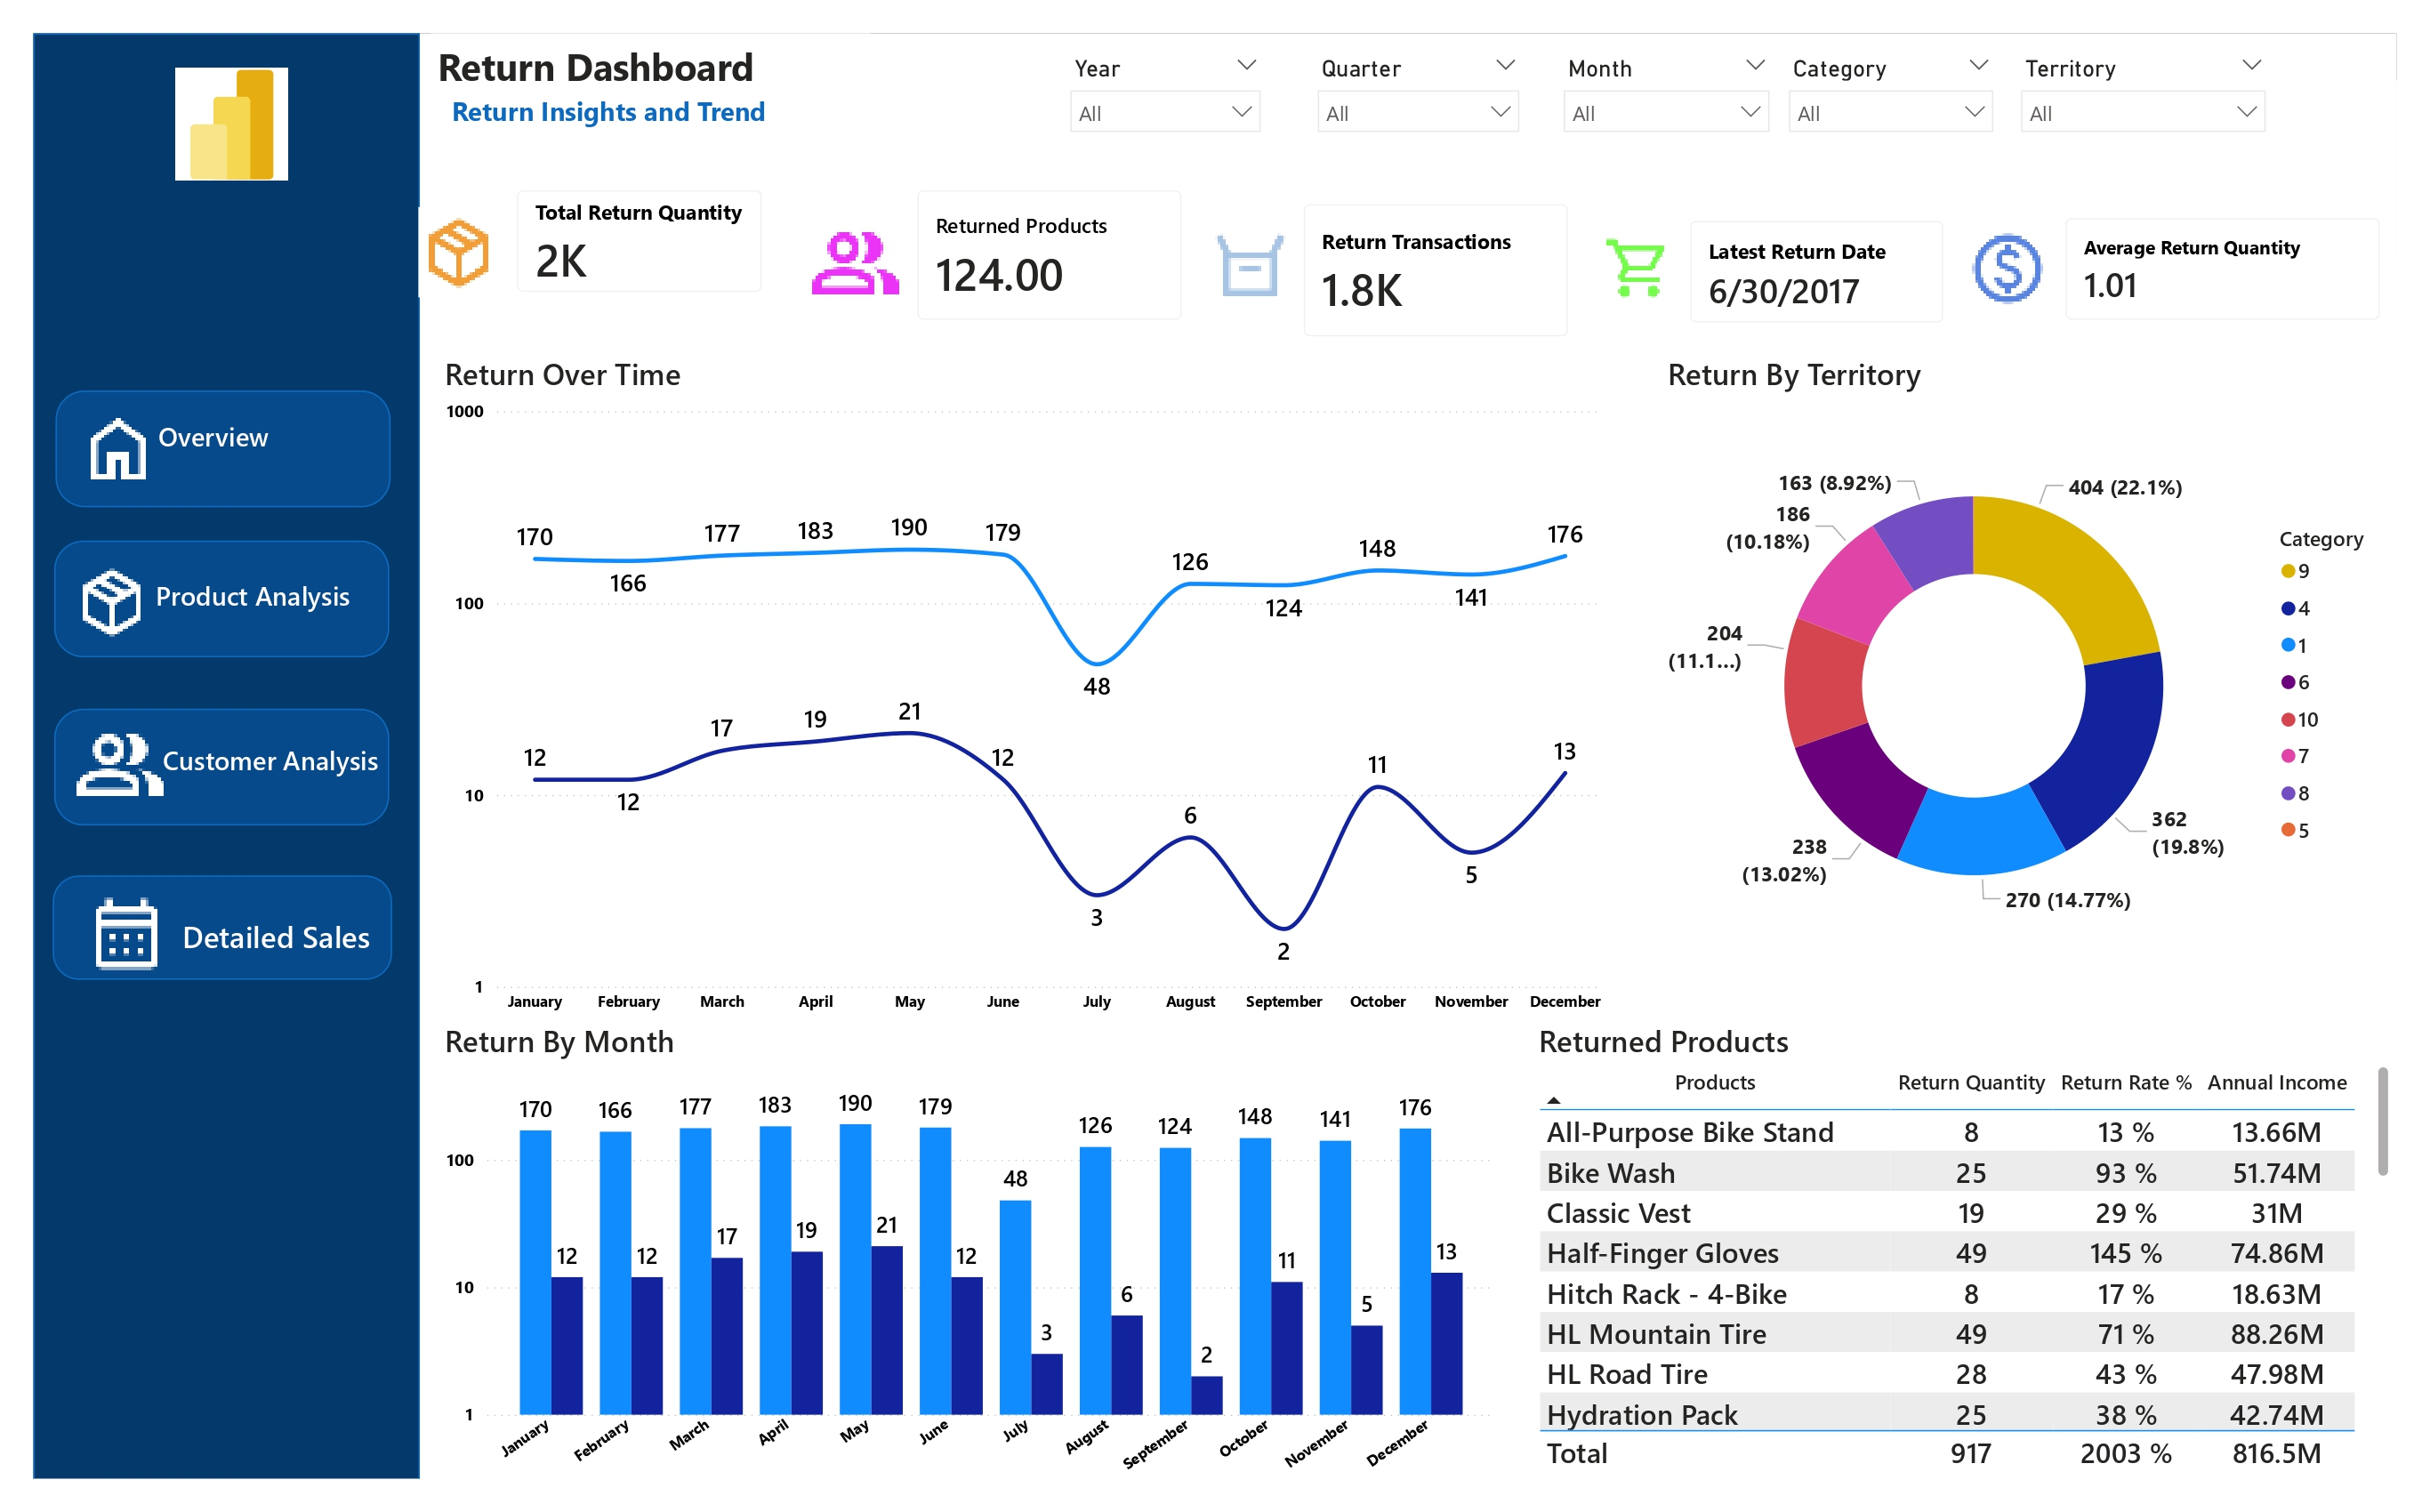

What the dashboard file says about the page in this screenshot:
{"tool":"powerbi","page":{"name":"Return Dashboard","canvas":[1700,1040],"ordinal":4},"visuals":[{"type":"shape","box":[0,0,277.5,1400],"z":0},{"type":"group","id":"g1","title":"Group 2","box":[1129.5,131.8,50,74.3],"z":1000},{"type":"shape","box":[16.1,257.3,241.4,84.3],"z":1000,"group":"g3"},{"type":"shape","box":[15.2,364.7,241.4,84.3],"z":1000,"group":"g9"},{"type":"shape","box":[15.3,485.7,241.4,84.3],"z":1000,"group":"g11"},{"type":"shape","box":[14,606,244,74.5],"z":1000,"group":"g12"},{"type":"group","id":"g2","title":"Group 3","box":[552,132,78,66],"z":2000},{"type":"image","box":[78.2,25.4,128.9,80.3],"z":3000},{"type":"group","id":"g3","title":"Group 8","box":[16.1,257.3,241.4,84.3],"z":4000},{"type":"image","box":[31.3,267.4,60,64.3],"z":4000,"group":"g4"},{"type":"group","id":"g4","title":"Group 7","box":[31.3,267.4,208.1,64.3],"z":4000,"group":"g3"},{"type":"group","id":"g5","title":"Group 7","box":[21.5,381.1,220.6,57.1],"z":4000,"group":"g9"},{"type":"image","box":[21.5,381.1,71.4,57.1],"z":4000,"group":"g5"},{"type":"group","id":"g6","title":"Group 7","box":[25.9,492.5,230.2,67.1],"z":4000,"group":"g11"},{"type":"image","box":[25.9,492.5,72.9,67.1],"z":4000,"group":"g6"},{"type":"image","box":[30.7,618,72,60],"z":4000,"group":"g7"},{"type":"group","id":"g7","title":"Group 7","box":[30.7,618,224.7,79.4],"z":4000,"group":"g12"},{"type":"group","id":"g8","title":"Group 4","box":[277.1,125.4,57.7,65.4],"z":5000},{"type":"textbox","box":[85.1,272.5,154.3,48.6],"z":5000,"group":"g4"},{"type":"textbox","box":[83.5,386.7,158.6,38.6],"z":5000,"group":"g5"},{"type":"textbox","box":[87.5,504.7,168.6,45.7],"z":5000,"group":"g6"},{"type":"textbox","box":[101.4,630,154,67.4],"z":5000,"group":"g7"},{"type":"cardVisual","fields":{"Data":["returndelta.Total Return Quantity"]},"box":[336,96,200,102],"z":6000},{"type":"image","box":[1129.5,131.8,50,74.3],"z":6000,"group":"g1"},{"type":"image","box":[552,132,78.6,67.1],"z":7000,"group":"g2"},{"type":"group","id":"g9","title":"Group 8","box":[15.2,364.7,241.4,84.3],"z":7000},{"type":"image","box":[277.1,125.4,57.7,65.4],"z":8000,"group":"g8"},{"type":"group","id":"g10","title":"Group 5","box":[837.1,140,77.1,58.6],"z":8000},{"type":"image","box":[837.1,140,77.1,58.6],"z":9000,"group":"g10"},{"type":"group","id":"g11","title":"Group 8","box":[15.3,485.7,241.4,84.3],"z":9000},{"type":"group","id":"g12","title":"Group 8","box":[14,606,244,91.4],"z":11000},{"type":"textbox","box":[286,0,316,56],"z":12000},{"type":"textbox","box":[296,38,306,40],"z":13000},{"type":"slicer","fields":{"Values":["calendar.Year"]},"box":[735.7,10,157.1,68.6],"z":14000},{"type":"slicer","fields":{"Values":["calendar.Quarter"]},"box":[914.3,10,164.3,68.6],"z":15000},{"type":"slicer","fields":{"Values":["calendar.Month Name"]},"box":[1091.4,10,167.1,68.6],"z":16000},{"type":"slicer","fields":{"Values":["Merge.CategoryName"]},"box":[1252.9,10,167.1,68.6],"z":17000},{"type":"slicer","fields":{"Values":["sales.TerritoryKey"]},"box":[1420,10,195.7,68.6],"z":18000},{"type":"donutChart","title":"Return By Territory","fields":{"Category":["returndelta2026.TerritoryKey"],"Y":["Sum(returndelta2026.ReturnQuantity)"]},"box":[1176,230,524,446],"z":19000},{"type":"lineChart","title":"Return Over Time","fields":{"Category":["returndelta2026.Month Name"],"Y":["Sum(returndelta2026.ReturnQuantity)","returndelta2026.PY Return Quantity"]},"box":[296,230,834,480],"z":20000},{"type":"cardVisual","fields":{"Data":["returndelta.Latest Return Date"]},"box":[1180,118,206,102],"z":21000},{"type":"cardVisual","fields":{"Data":["returndelta.Average Return Quantity"]},"box":[1450,115.7,250,102.9],"z":22000},{"type":"image","box":[1385.7,140,68.6,58.6],"z":23000},{"type":"cardVisual","fields":{"Data":["returndelta.Distinct Returned Products"]},"box":[624,96,214,122],"z":24000},{"type":"cardVisual","fields":{"Data":["returndelta.Return Transactions"]},"box":[902,106,214,124],"z":25000},{"type":"clusteredColumnChart","title":"Return By Month","fields":{"Category":["returndelta2026.Month Name"],"Y":["Sum(returndelta2026.ReturnQuantity)","returndelta2026.PY Return Quantity"]},"box":[296,710,756,330],"z":26000},{"type":"tableEx","title":"Returned Products","fields":{"Values":["product.ModelName","Sum(returndelta2026.ReturnQuantity)","returndelta.Return Rate %","returndelta2026.Annual Income by Model"]},"box":[1078,710,622,330],"z":27000},{"type":"actionButton","box":[40,280,166,40],"z":27001},{"type":"actionButton","box":[34,382,206,58],"z":27002},{"type":"actionButton","box":[36,504,218,56],"z":27003},{"type":"actionButton","box":[22,612,234,64],"z":27004}]}

Visuals, with their boxes on the page's 1700x1040 design canvas (x1, y1, x2, y2). These are canvas units, not pixel positions in the 2430x1512 screenshot, which may show the page scaled, cropped or inside an application window:
shape: left=0, top=0, right=278, bottom=1400
"Group 2" group: left=1130, top=132, right=1180, bottom=206
shape: left=16, top=257, right=258, bottom=342
shape: left=15, top=365, right=257, bottom=449
shape: left=15, top=486, right=257, bottom=570
shape: left=14, top=606, right=258, bottom=680
"Group 3" group: left=552, top=132, right=630, bottom=198
image: left=78, top=25, right=207, bottom=106
"Group 8" group: left=16, top=257, right=258, bottom=342
image: left=31, top=267, right=91, bottom=332
"Group 7" group: left=31, top=267, right=239, bottom=332
"Group 7" group: left=22, top=381, right=242, bottom=438
image: left=22, top=381, right=93, bottom=438
"Group 7" group: left=26, top=492, right=256, bottom=560
image: left=26, top=492, right=99, bottom=560
image: left=31, top=618, right=103, bottom=678
"Group 7" group: left=31, top=618, right=255, bottom=697
"Group 4" group: left=277, top=125, right=335, bottom=191
textbox: left=85, top=272, right=239, bottom=321
textbox: left=84, top=387, right=242, bottom=425
textbox: left=88, top=505, right=256, bottom=550
textbox: left=101, top=630, right=255, bottom=697
cardVisual - returndelta.Total Return Quantity: left=336, top=96, right=536, bottom=198
image: left=1130, top=132, right=1180, bottom=206
image: left=552, top=132, right=631, bottom=199
"Group 8" group: left=15, top=365, right=257, bottom=449
image: left=277, top=125, right=335, bottom=191
"Group 5" group: left=837, top=140, right=914, bottom=199
image: left=837, top=140, right=914, bottom=199
"Group 8" group: left=15, top=486, right=257, bottom=570
"Group 8" group: left=14, top=606, right=258, bottom=697
textbox: left=286, top=0, right=602, bottom=56
textbox: left=296, top=38, right=602, bottom=78
slicer - calendar.Year: left=736, top=10, right=893, bottom=79
slicer - calendar.Quarter: left=914, top=10, right=1079, bottom=79
slicer - calendar.Month Name: left=1091, top=10, right=1258, bottom=79
slicer - Merge.CategoryName: left=1253, top=10, right=1420, bottom=79
slicer - sales.TerritoryKey: left=1420, top=10, right=1616, bottom=79
"Return By Territory" donutChart: left=1176, top=230, right=1700, bottom=676
"Return Over Time" lineChart: left=296, top=230, right=1130, bottom=710
cardVisual - returndelta.Latest Return Date: left=1180, top=118, right=1386, bottom=220
cardVisual - returndelta.Average Return Quantity: left=1450, top=116, right=1700, bottom=219
image: left=1386, top=140, right=1454, bottom=199
cardVisual - returndelta.Distinct Returned Products: left=624, top=96, right=838, bottom=218
cardVisual - returndelta.Return Transactions: left=902, top=106, right=1116, bottom=230
"Return By Month" clusteredColumnChart: left=296, top=710, right=1052, bottom=1040
"Returned Products" tableEx: left=1078, top=710, right=1700, bottom=1040
actionButton: left=40, top=280, right=206, bottom=320
actionButton: left=34, top=382, right=240, bottom=440
actionButton: left=36, top=504, right=254, bottom=560
actionButton: left=22, top=612, right=256, bottom=676
